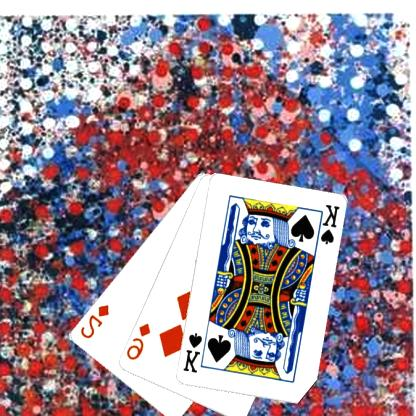2D: (79, 302, 112, 340)
9D: (124, 320, 154, 362)
KS: (314, 202, 342, 248), (181, 330, 205, 375)
